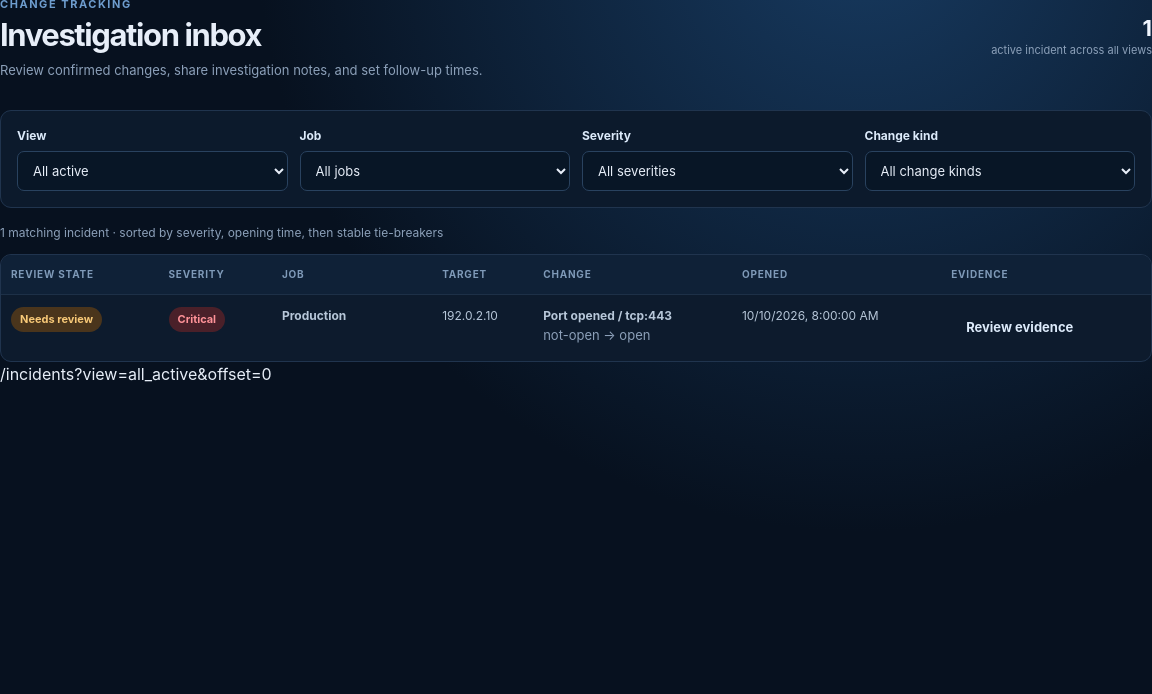
Scenario: shared review workflow › keeps a review draft by occurrence when its evidence panel closes and reopens
expect the heading "Investigation inbox" is shown: met, box [0, 16, 261, 52]
Click the button "Review evidence" at (1020, 328), box [951, 307, 1088, 349]
(page scrolled)
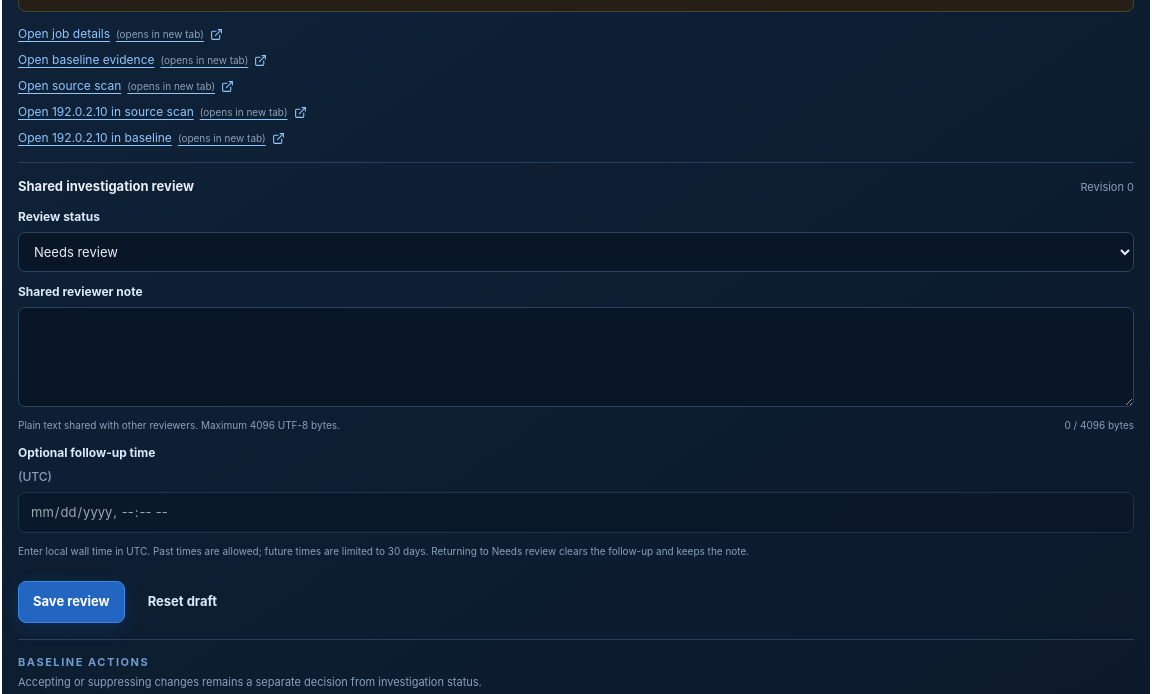
Type "Keep this draft" into the text box labelled "Shared reviewer note" at (576, 357), box [18, 307, 1134, 407]
(page scrolled)
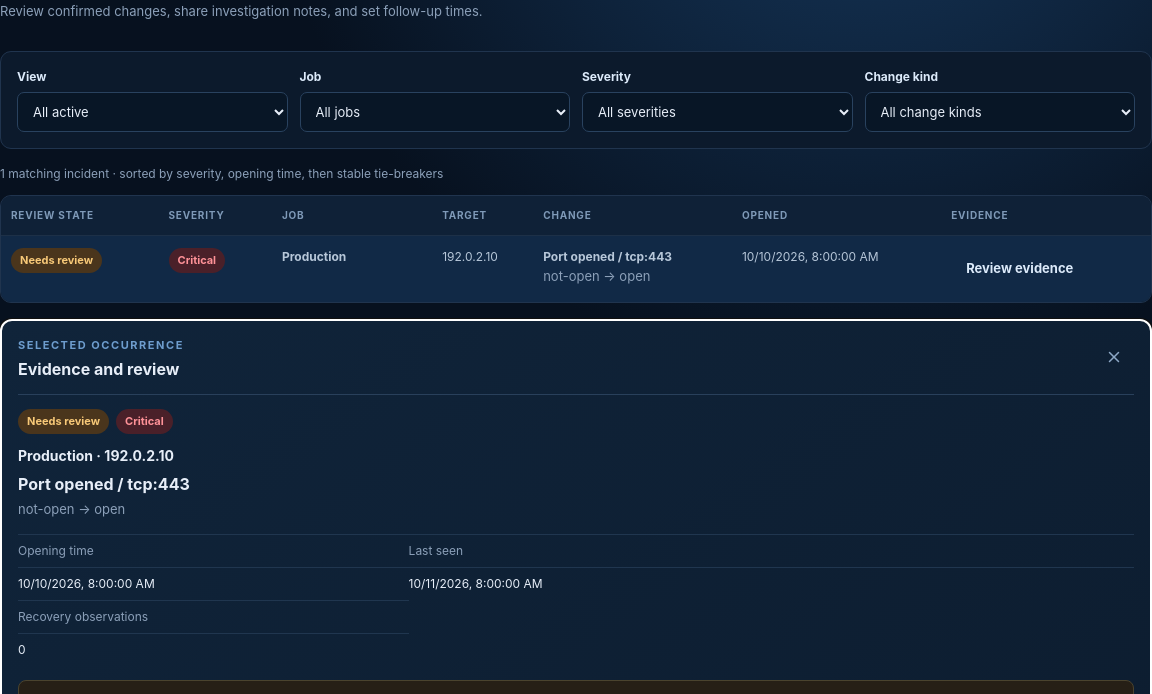
Click the button named "Close evidence panel" at (1114, 357), box [1094, 337, 1134, 377]
(page scrolled)
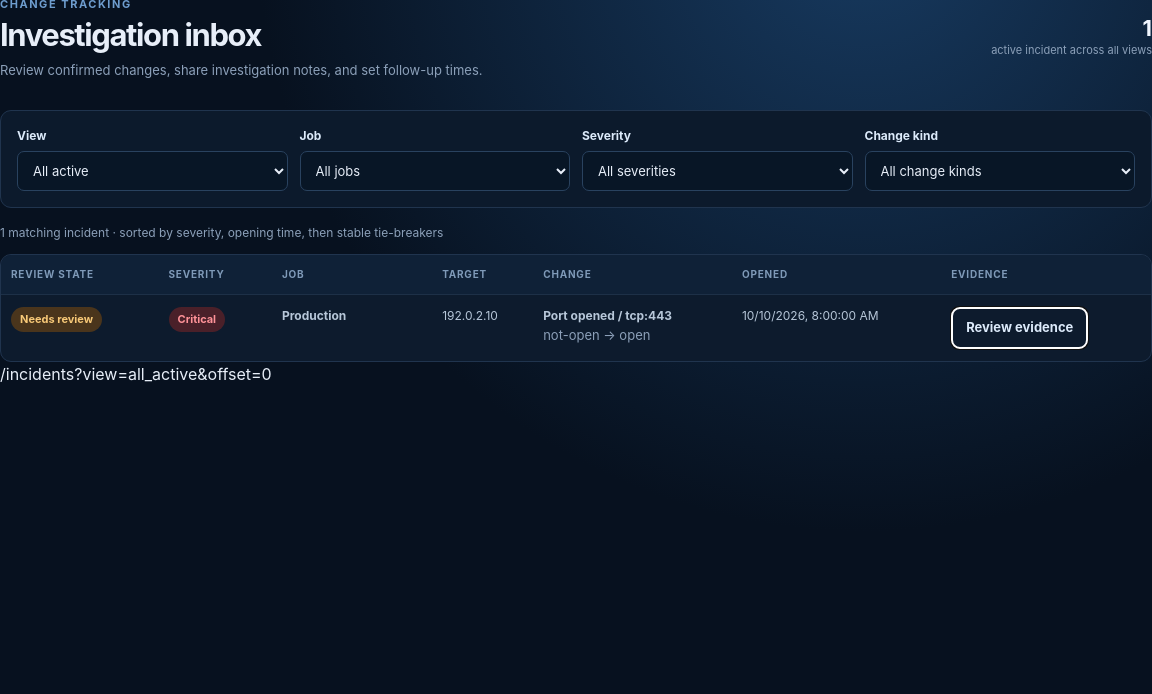
expect the heading "Evidence and review" is gone: met
Click the button "Review evidence" at (1020, 328), box [951, 307, 1088, 349]
(page scrolled)
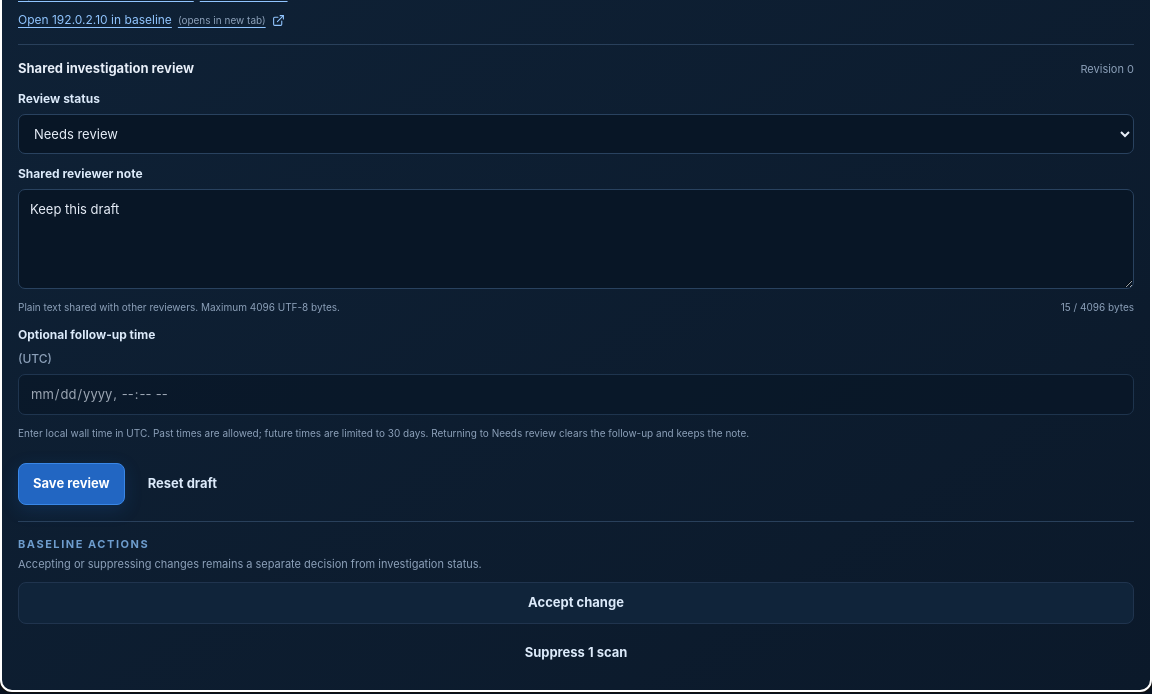
expect the text box labelled "Shared reviewer note" holds "Keep this draft": met, box [18, 189, 1134, 289]
Click the button "Reset draft" at (182, 484), box [133, 463, 232, 505]
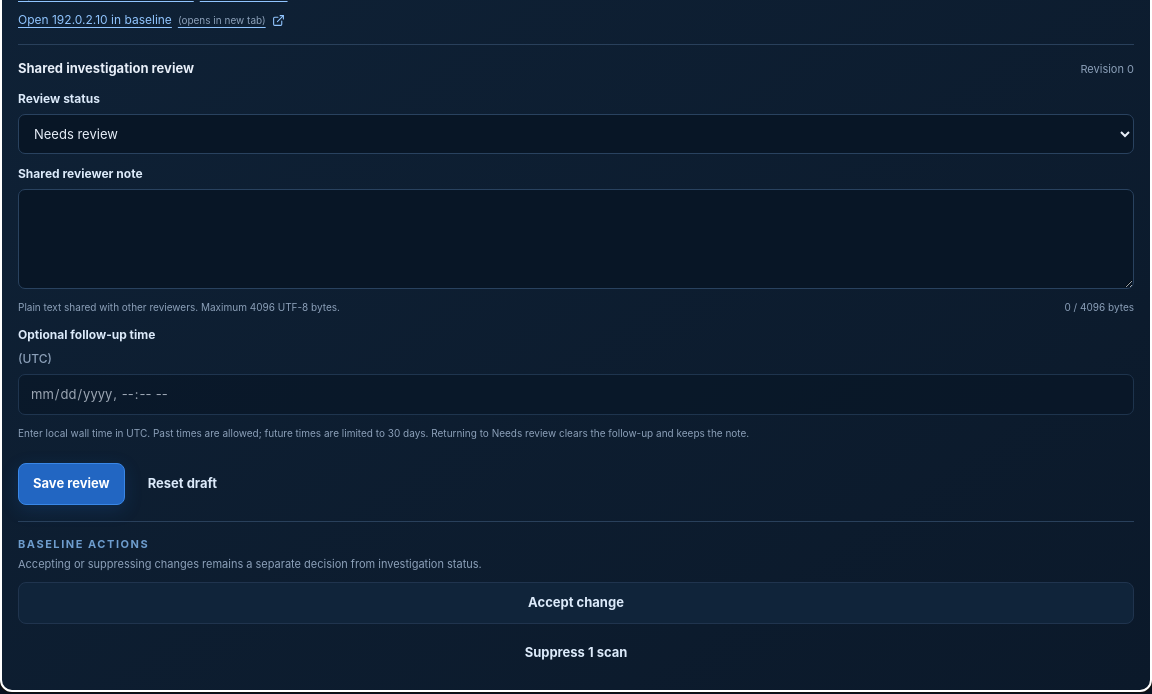
expect the text box labelled "Shared reviewer note" is empty: met, box [18, 189, 1134, 289]
